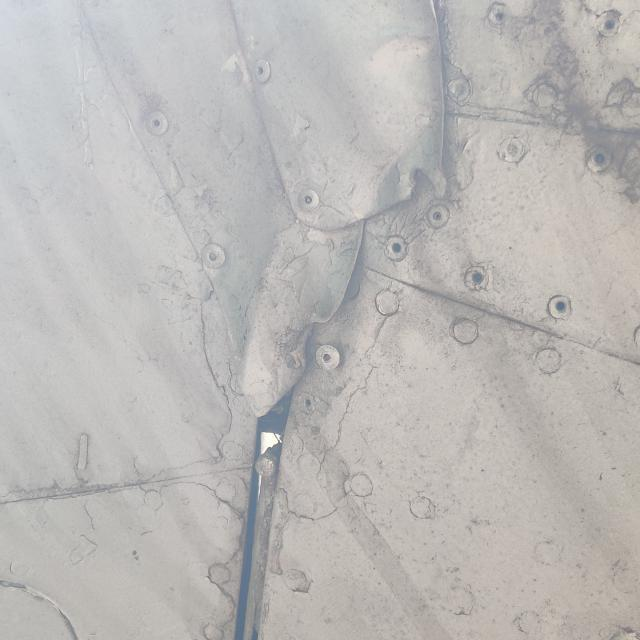Crack: (280, 315, 324, 383)
